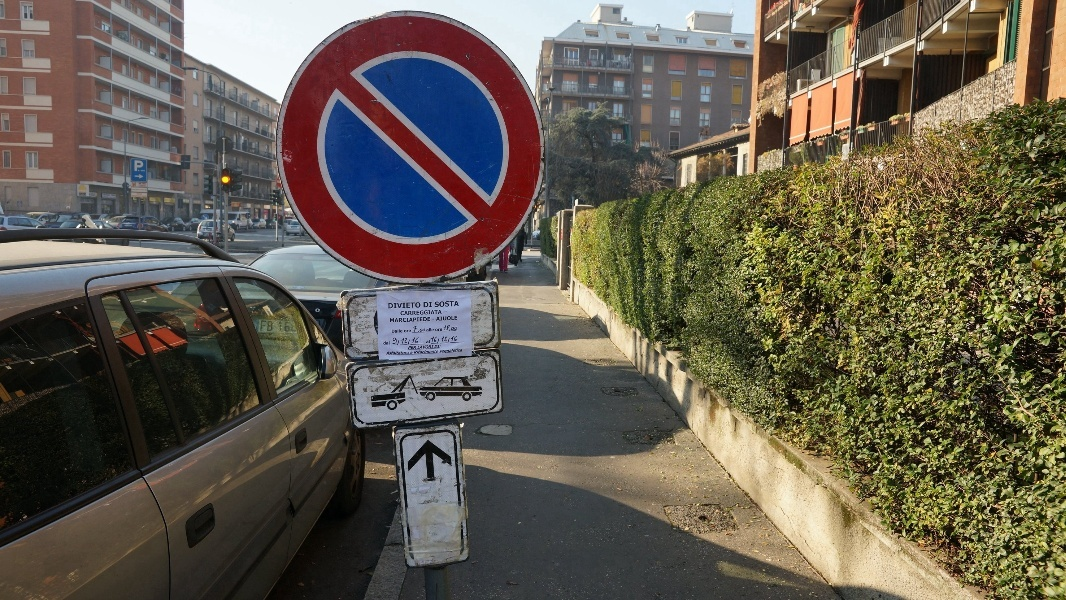text: (261, 321, 272, 332), (134, 160, 144, 172), (401, 302, 416, 310), (402, 338, 416, 346), (279, 321, 288, 333), (289, 321, 298, 333), (401, 316, 416, 323), (417, 316, 431, 323), (435, 301, 448, 308), (401, 310, 416, 316), (417, 310, 432, 316), (449, 338, 464, 344), (389, 302, 400, 310), (449, 301, 461, 308), (389, 316, 400, 323), (417, 350, 432, 355), (132, 182, 144, 188), (452, 336, 464, 342), (449, 325, 459, 332), (438, 338, 448, 345), (418, 345, 432, 350), (449, 349, 463, 354), (387, 351, 400, 356), (417, 326, 426, 333), (393, 337, 400, 346), (433, 310, 443, 316), (437, 316, 448, 321), (433, 336, 439, 345), (435, 328, 448, 332), (435, 345, 448, 349), (409, 339, 416, 346), (424, 302, 432, 308), (404, 330, 416, 334), (449, 316, 458, 321), (401, 351, 410, 356), (417, 302, 422, 310), (392, 329, 400, 334), (440, 349, 448, 354), (443, 336, 448, 343), (417, 337, 421, 345), (408, 346, 416, 350), (385, 341, 391, 346), (433, 350, 439, 355), (444, 325, 448, 332), (427, 328, 432, 333), (413, 337, 416, 345), (426, 340, 432, 344), (413, 326, 416, 333), (411, 352, 416, 355), (444, 311, 448, 314), (398, 340, 400, 346), (401, 329, 403, 334), (433, 328, 435, 333), (414, 350, 416, 355), (81, 194, 86, 196), (431, 336, 432, 345), (433, 345, 434, 350), (433, 319, 435, 320), (79, 194, 80, 196)
